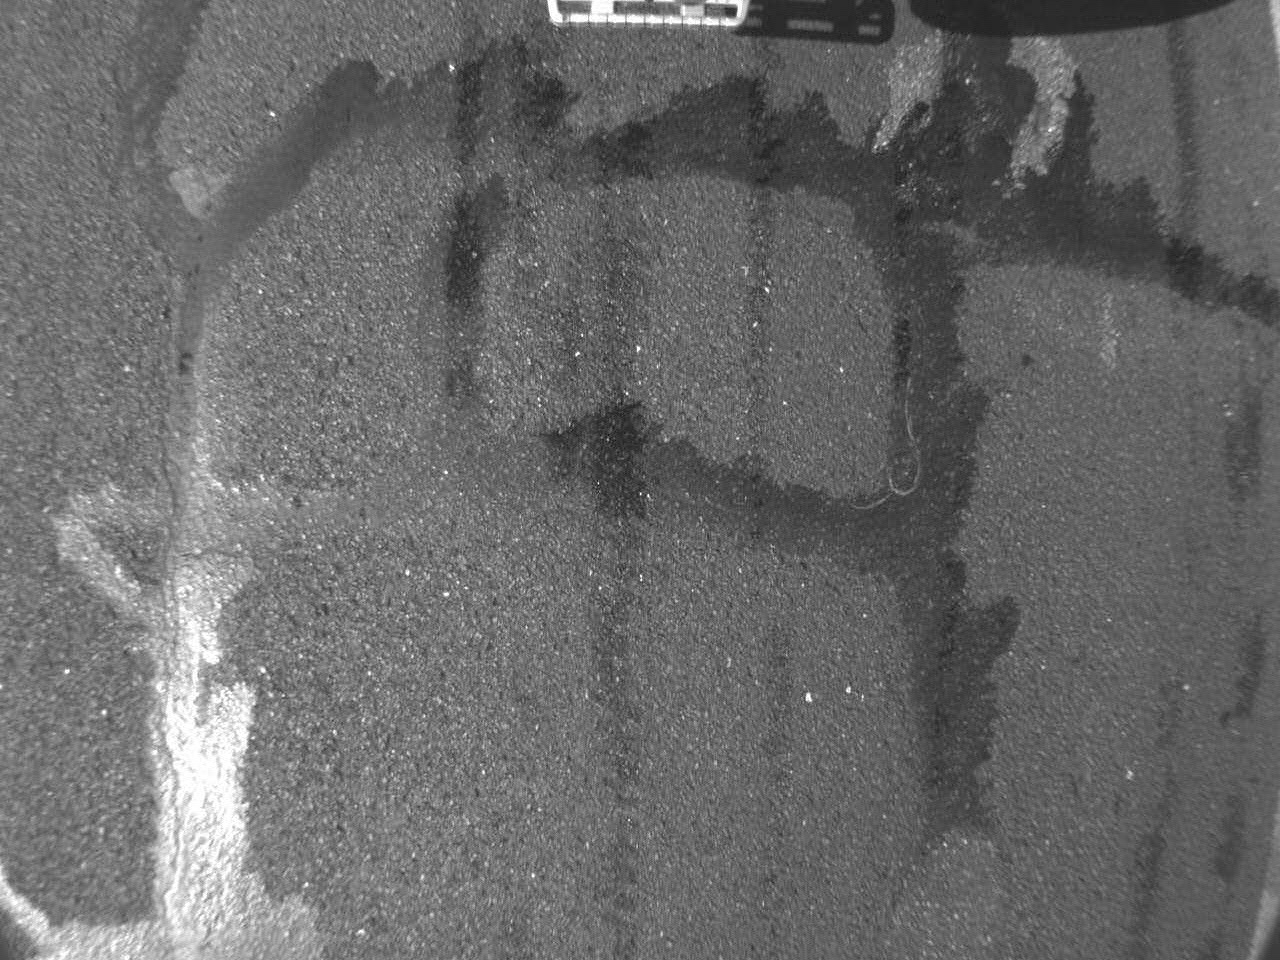sealed: (422, 16, 1269, 850)
